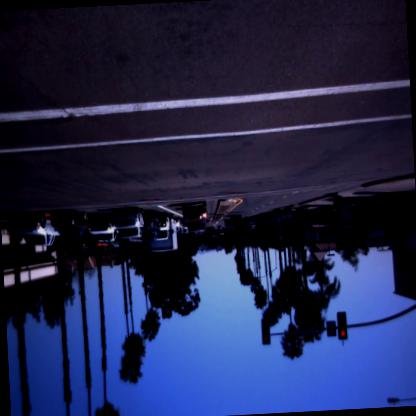trafficlight: (334, 302, 352, 346), (258, 312, 274, 348)
